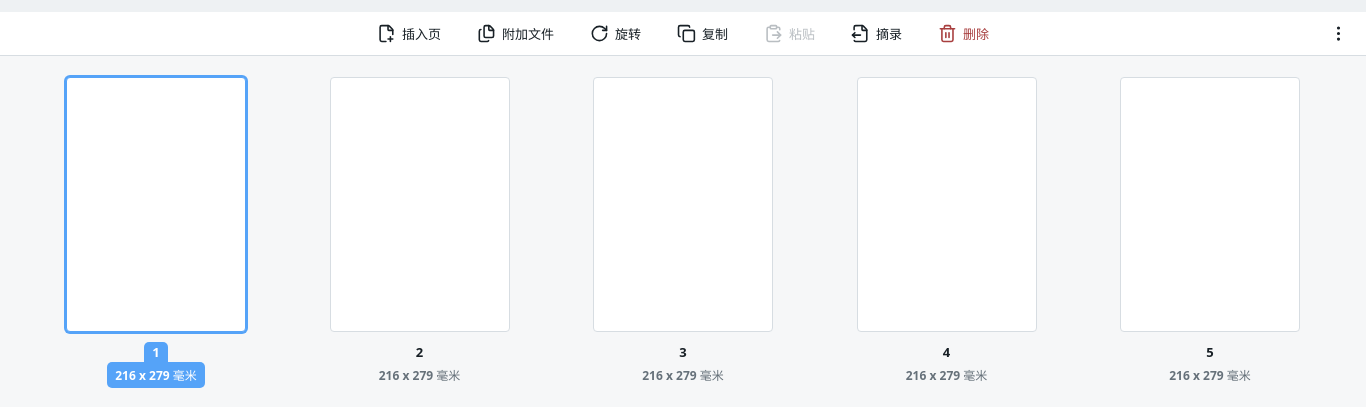
PageOrganizerWorkspace 多选 / 撤销 / 风险 › 点选页面后启用删除 + 显示选择计数
Click the button with aria-label "第 2 页": point(420, 232) [330,76,510,389]
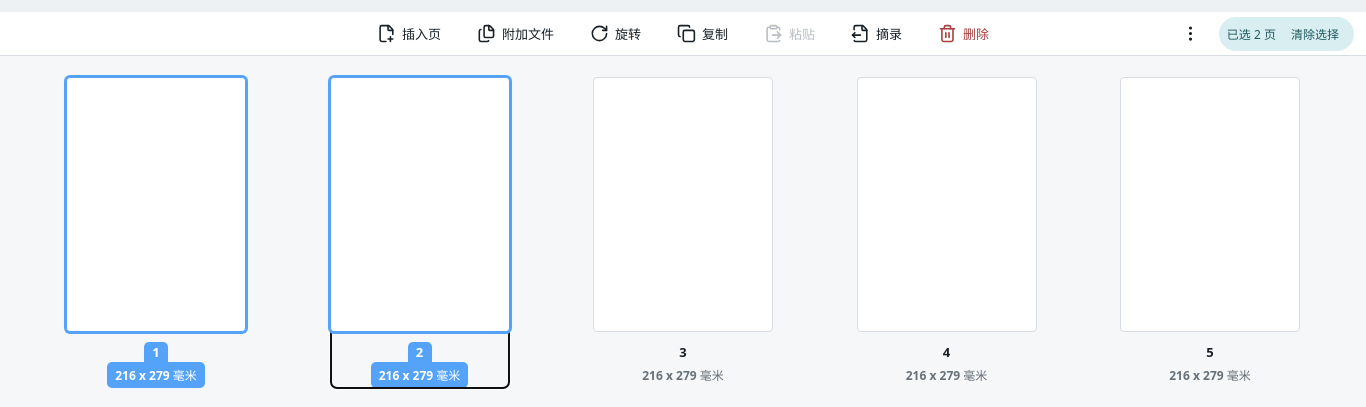
Check: the button "删除" is enabled, box [934,14,993,54]
Check: the text "已选 2 页" is shown, box [1227,24,1276,42]
